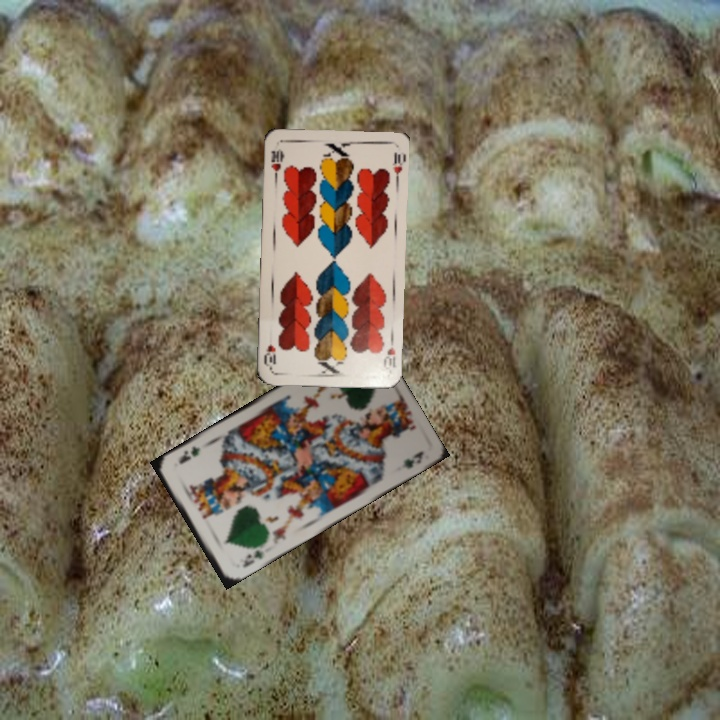GK: (239, 546, 267, 570)
H10: (380, 334, 398, 372), (267, 145, 285, 182)
